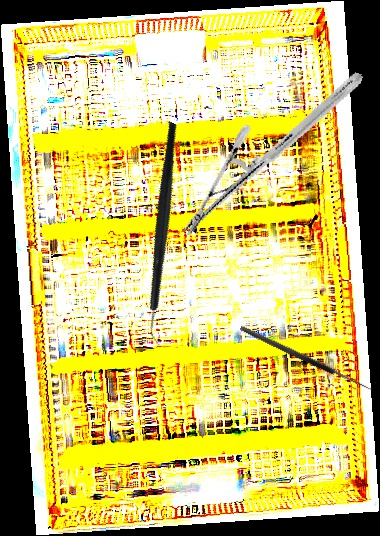Chopper: (76, 119, 256, 349)
Hook Surgical: (238, 318, 378, 394)
Needle Holder: (182, 36, 364, 272)
